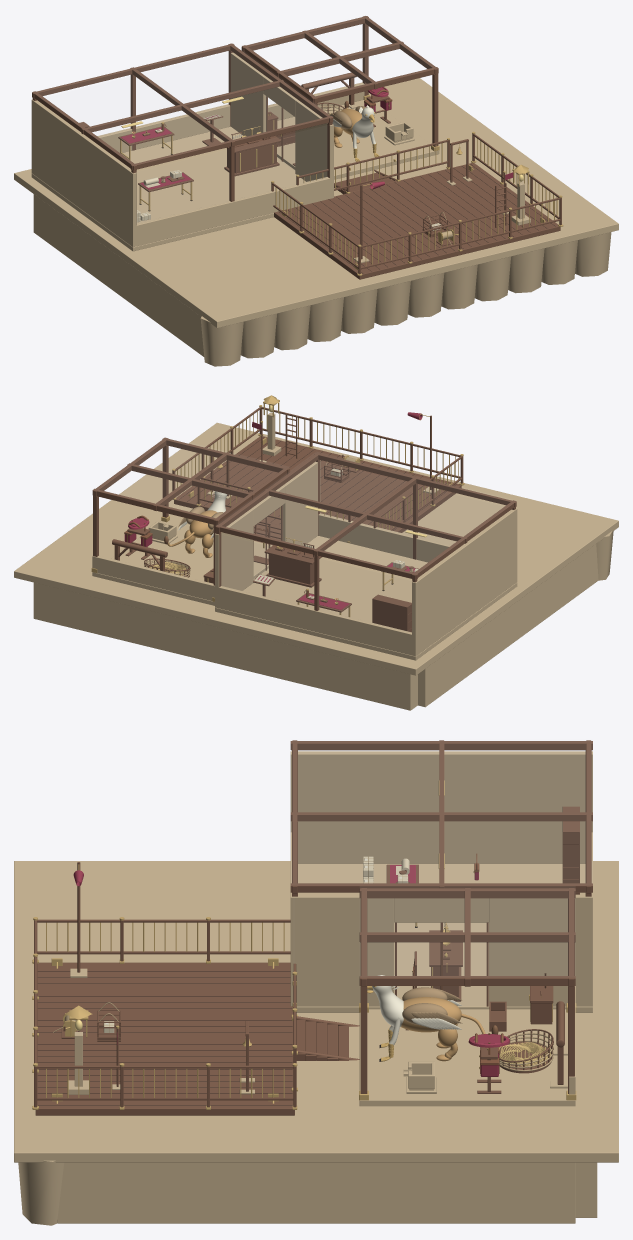
File: griffin-airmail-roost-and-posthouse-grif-d1c30fe4-starter-scene__30543.glb
The picture shows the model from 3 angles, top to bottom: view 1: azimuth 30°, elevation 25°; view 2: azimuth 150°, elevation 25°; view 3: azimuth 270°, elevation 25°; orthographic projection. The views are drawn at different scales.
Parts seen in each view (by area): view 1: 000-posthouse-cliff-base/0, 001-roofed-cliff-posthouse/0, 003-cliff-landing-platform/0, 001-roofed-cliff-posthouse/2, 002-covered-griffin-roost/1, 002-covered-griffin-roost/0, 032-dispatch-counter/0, 003-cliff-landing-platform/1, 016-platform-railing-corner/1, 017-folded-wing-griffin/1, 004-platform-approach-ramp/0, 022-water-basin/0 (+2 smaller); view 2: 000-posthouse-cliff-base/0, 001-roofed-cliff-posthouse/0, 003-cliff-landing-platform/0, 001-roofed-cliff-posthouse/2, 002-covered-griffin-roost/1, 002-covered-griffin-roost/0, 032-dispatch-counter/0, 036-pigeonhole-mail-cabinet/0, 017-folded-wing-griffin/0, 003-cliff-landing-platform/1, 020-roost-perch-beam/1, 016-platform-railing-corner/1 (+2 smaller); view 3: 000-posthouse-cliff-base/0, 001-roofed-cliff-posthouse/0, 003-cliff-landing-platform/0, 002-covered-griffin-roost/0, 001-roofed-cliff-posthouse/2, 002-covered-griffin-roost/1, 003-cliff-landing-platform/1, 004-platform-approach-ramp/0, 017-folded-wing-griffin/0, 017-folded-wing-griffin/1, 036-pigeonhole-mail-cabinet/0, 017-folded-wing-griffin/6 (+13 smaller).
Part boxes in pixels (left/top/right/bottom): 000-posthouse-cliff-base/0: left=14, top=78, right=618, bottom=366; 001-roofed-cliff-posthouse/0: left=31, top=52, right=333, bottom=251; 003-cliff-landing-platform/0: left=274, top=163, right=560, bottom=279; 001-roofed-cliff-posthouse/2: left=32, top=43, right=333, bottom=201; 002-covered-griffin-roost/1: left=241, top=16, right=438, bottom=146; 002-covered-griffin-roost/0: left=268, top=82, right=439, bottom=179; 032-dispatch-counter/0: left=224, top=136, right=281, bottom=176; 003-cliff-landing-platform/1: left=278, top=164, right=555, bottom=273; 016-platform-railing-corner/1: left=329, top=225, right=411, bottom=274; 017-folded-wing-griffin/1: left=332, top=105, right=375, bottom=148; 004-platform-approach-ramp/0: left=334, top=170, right=396, bottom=194; 022-water-basin/0: left=384, top=122, right=414, bottom=145; 000-posthouse-cliff-base/0: left=14, top=422, right=618, bottom=710; 001-roofed-cliff-posthouse/0: left=215, top=461, right=517, bottom=660; 003-cliff-landing-platform/0: left=174, top=436, right=461, bottom=532; 001-roofed-cliff-posthouse/2: left=215, top=452, right=516, bottom=610; 002-covered-griffin-roost/1: left=92, top=437, right=289, bottom=585; 002-covered-griffin-roost/0: left=92, top=520, right=272, bottom=605; 032-dispatch-counter/0: left=264, top=545, right=321, bottom=587; 036-pigeonhole-mail-cabinet/0: left=372, top=594, right=411, bottom=632; 017-folded-wing-griffin/0: left=167, top=510, right=217, bottom=557; 003-cliff-landing-platform/1: left=179, top=437, right=456, bottom=530; 020-roost-perch-beam/1: left=112, top=539, right=167, bottom=571; 016-platform-railing-corner/1: left=412, top=444, right=463, bottom=504; 000-posthouse-cliff-base/0: left=14, top=861, right=618, bottom=1225; 001-roofed-cliff-posthouse/0: left=290, top=751, right=592, bottom=1012; 003-cliff-landing-platform/0: left=35, top=962, right=294, bottom=1115; 002-covered-griffin-roost/0: left=359, top=986, right=575, bottom=1106; 001-roofed-cliff-posthouse/2: left=290, top=740, right=592, bottom=1006; 002-covered-griffin-roost/1: left=359, top=888, right=575, bottom=1093; 003-cliff-landing-platform/1: left=38, top=971, right=292, bottom=1105; 004-platform-approach-ramp/0: left=296, top=1016, right=359, bottom=1060; 017-folded-wing-griffin/0: left=401, top=997, right=485, bottom=1061; 017-folded-wing-griffin/1: left=372, top=975, right=461, bottom=1045; 036-pigeonhole-mail-cabinet/0: left=562, top=806, right=579, bottom=894; 017-folded-wing-griffin/6: left=402, top=987, right=462, bottom=1025.
Size of the model in its own units: 16.19 by 5.2 by 14.
